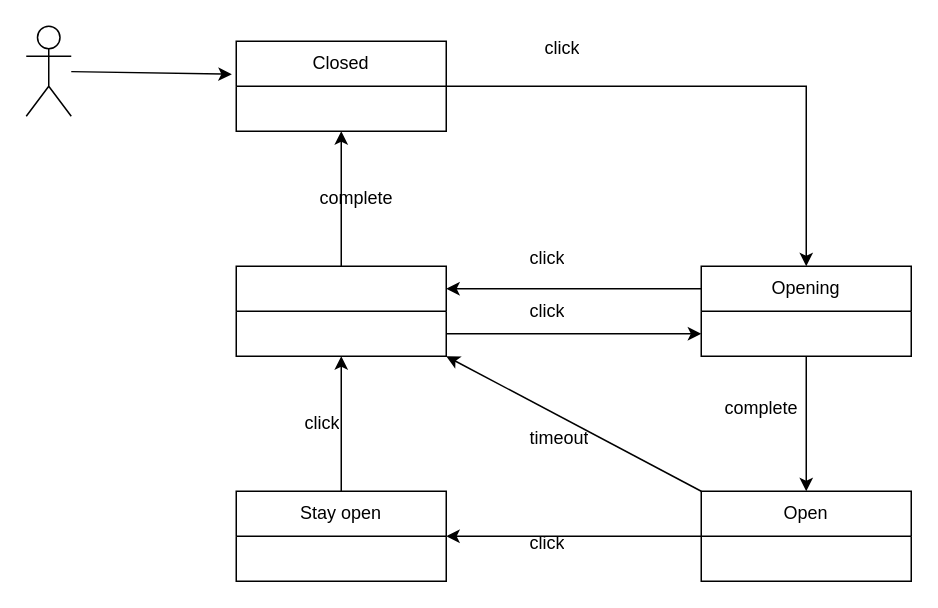
This 938x608 diagram has some shape labels left out. The centre of each missing label's shape, as x and y in pixels:
"Actor" belongs at (48,70).
"Closing" belongs at (340,310).
